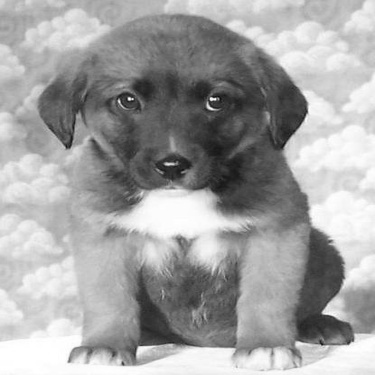dog: (24, 8, 359, 373)
